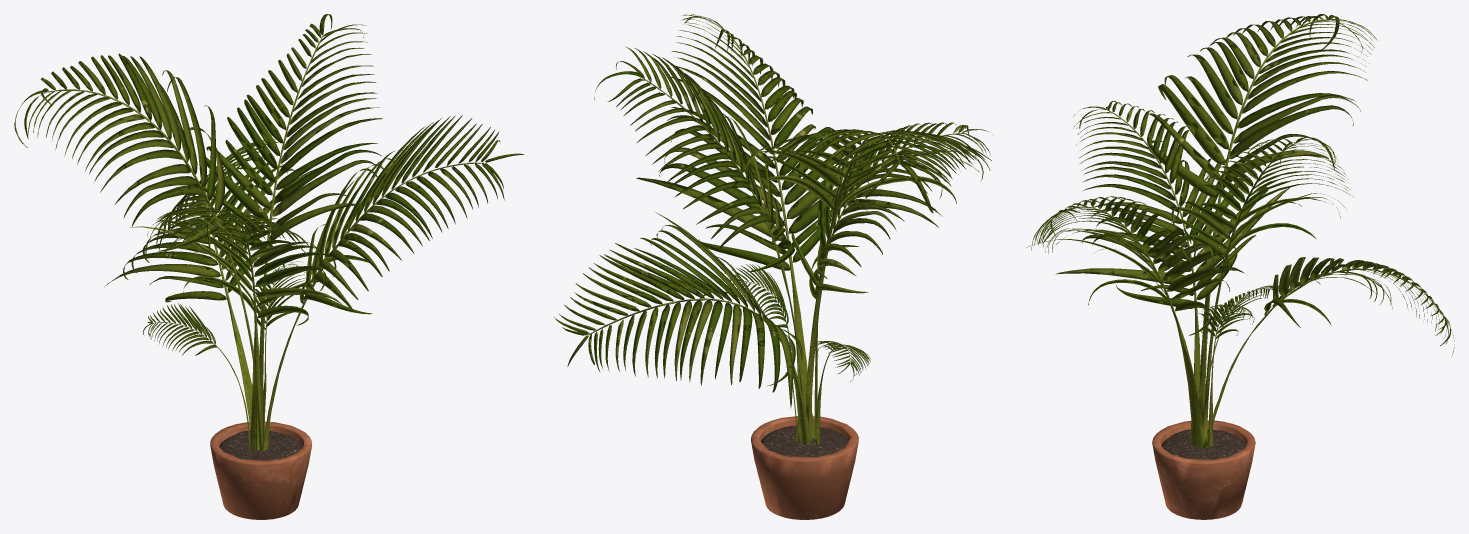
Rendered from potted_palm_tree.glb.
The picture shows the model from 3 angles, left to right: view 1: azimuth 30°, elevation 25°; view 2: azimuth 150°, elevation 25°; view 3: azimuth 270°, elevation 25°; orthographic projection. The views are drawn at different scales.
Parts seen in each view (by area): view 1: Object_2; view 2: Object_2; view 3: Object_2.
Part boxes in pixels (<box>): Object_2: <box>14,14,524,519</box>; Object_2: <box>553,14,991,519</box>; Object_2: <box>1026,14,1454,519</box>.
Size of the model in its own units: 67.43 by 72.28 by 65.8.
1 material, 1 textured.
